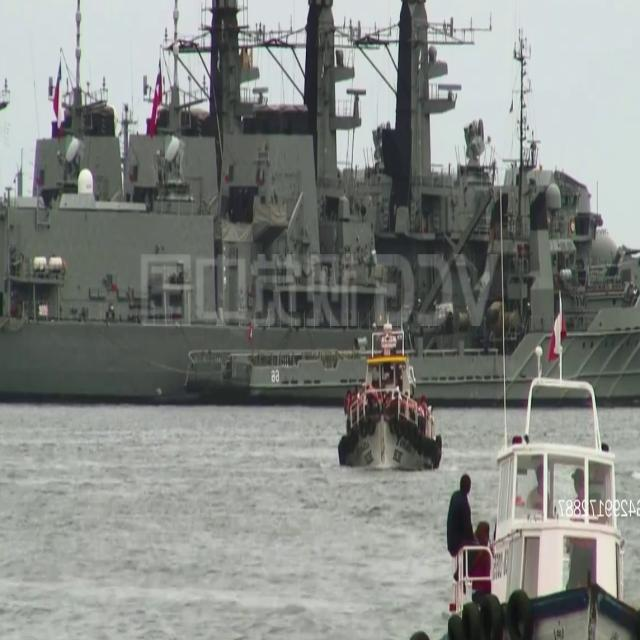houseboat: (468, 342, 640, 640), (334, 327, 446, 474)
navalvessels: (0, 0, 640, 407)
